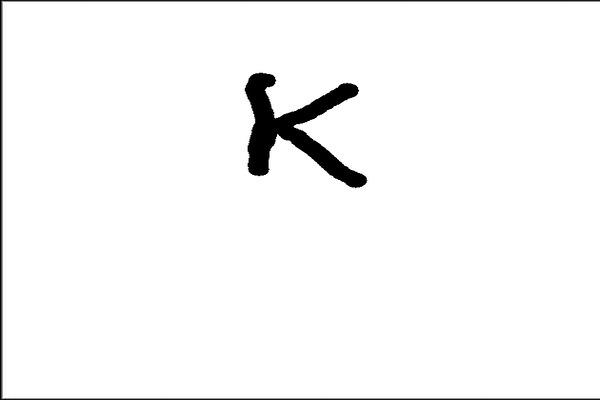K: (237, 62, 375, 196)
